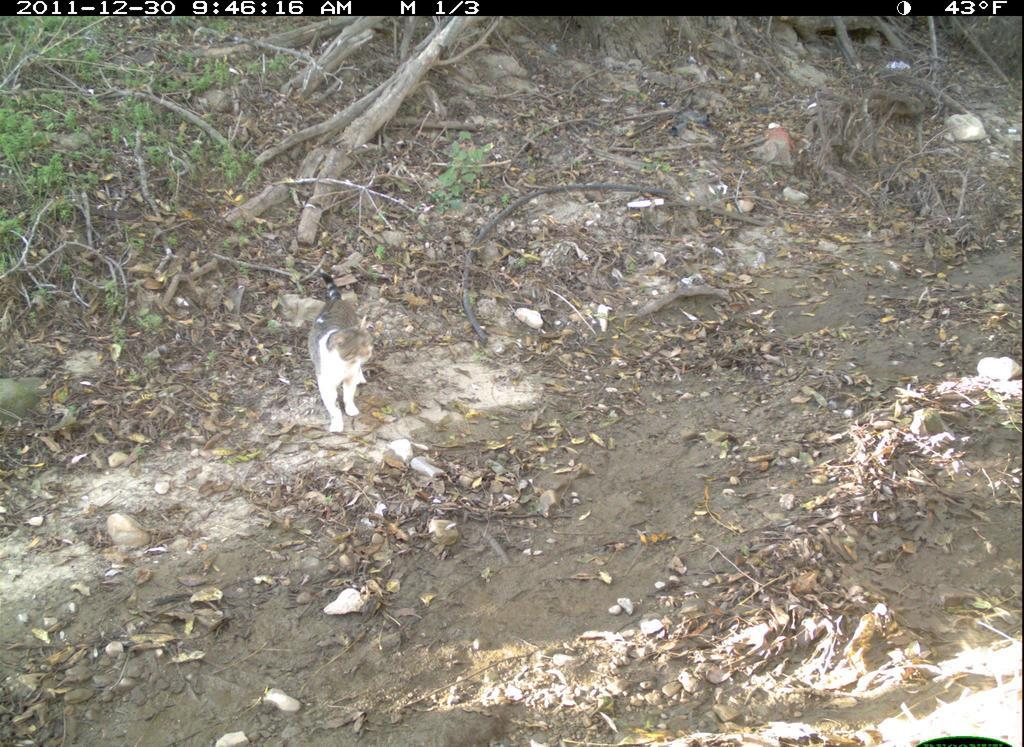cat: (299, 262, 387, 449)
